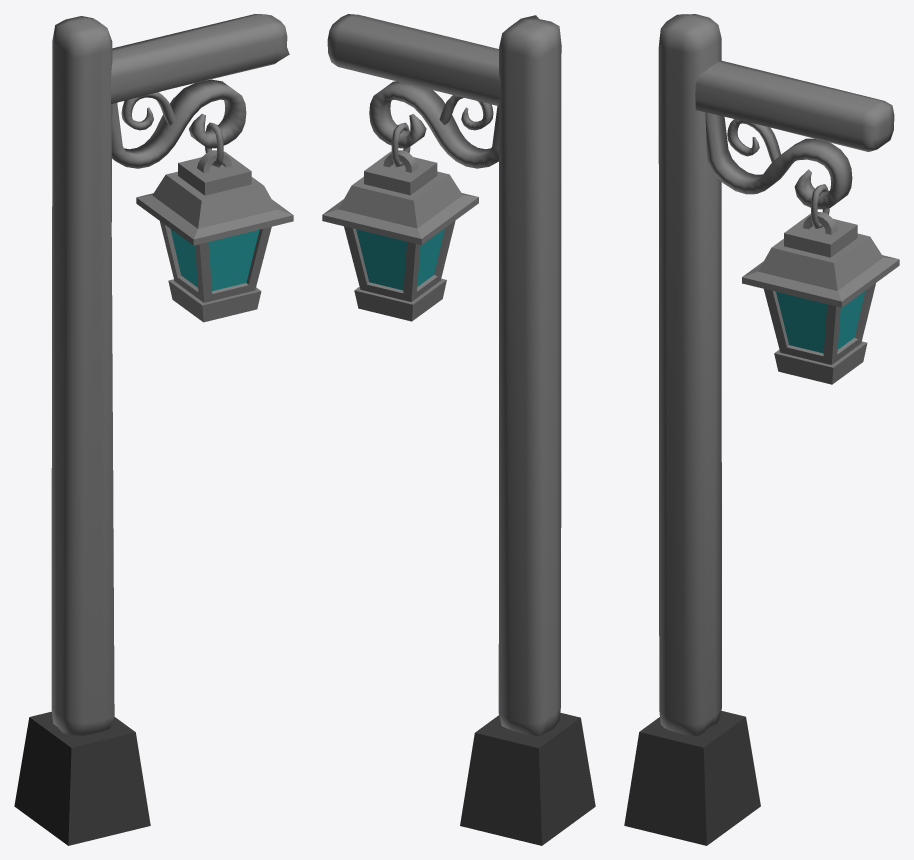
The model's file is SM_steetlamp_02.fbx.
3 views of the same model, side by side, from view 1: azimuth 30°, elevation 25°; view 2: azimuth 150°, elevation 25°; view 3: azimuth 330°, elevation 25° (orthographic).
Parts seen in each view (by area): view 1: Box029; view 2: Box029; view 3: Box029.
Part boxes in pixels (<box>): Box029: <box>14,14,293,845</box>; Box029: <box>322,14,595,845</box>; Box029: <box>624,14,899,845</box>.
Size of the model in its own units: 35.81 by 116 by 15.33.
